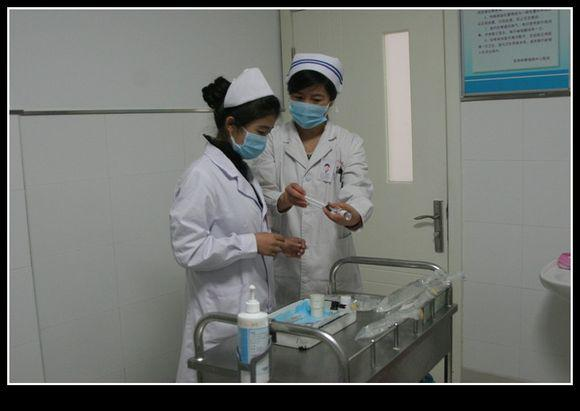OK: (231, 122, 274, 160), (291, 88, 331, 128)
